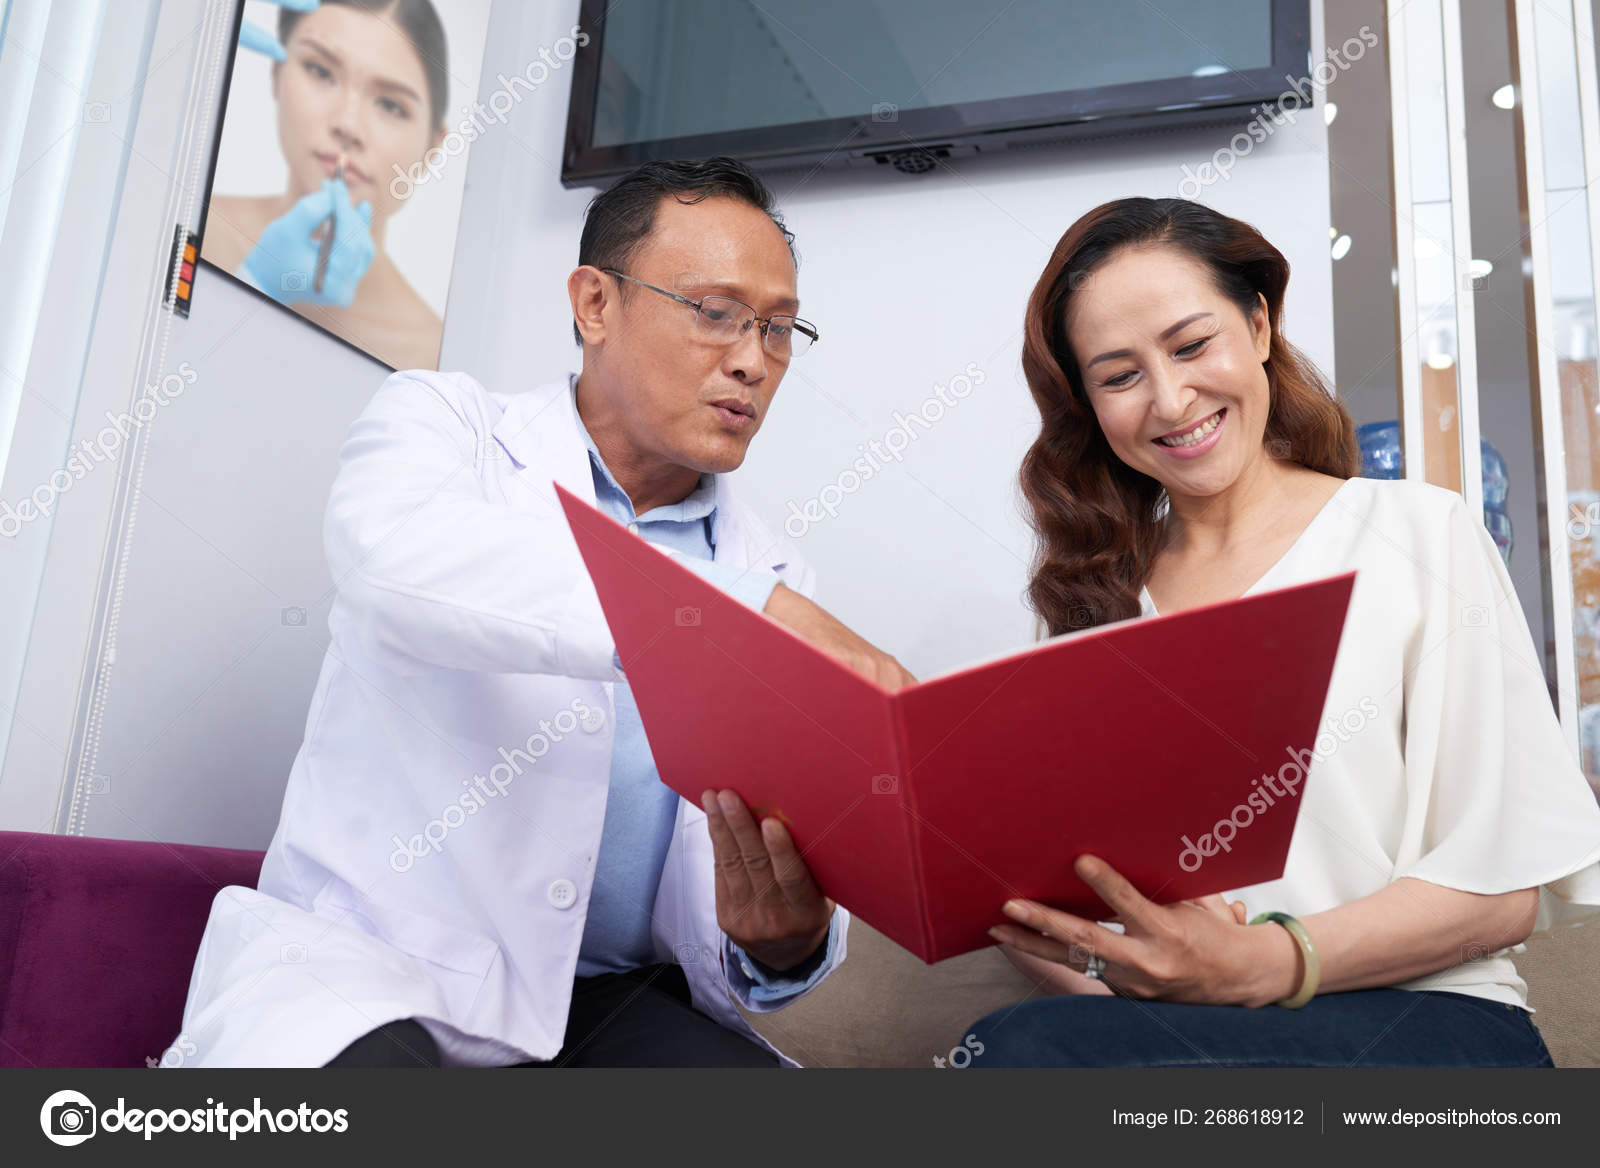red folder: (549, 457, 1380, 977)
